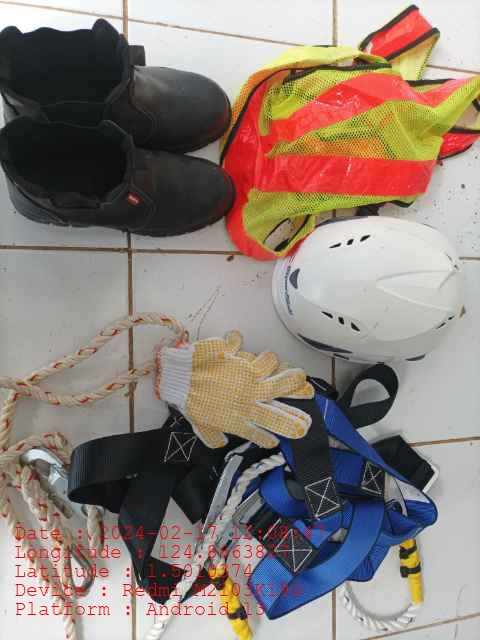HELM: (272, 215, 468, 364)
ROMPI: (228, 6, 472, 216)
SARUNG_TANGAN: (154, 331, 312, 448)
SEPATU: (1, 19, 237, 238)
